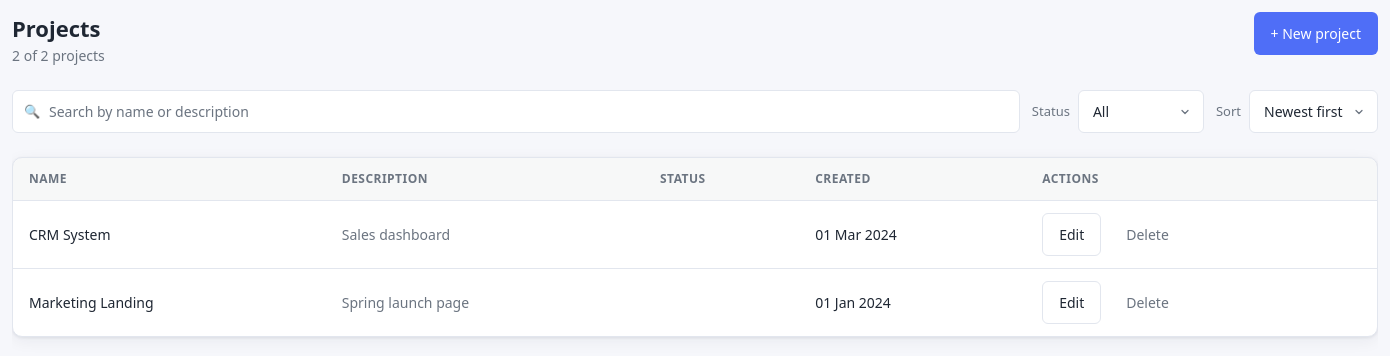
Test: ProjectsPage › filters by the debounced search query
Type "landing" into the search field named "Search projects" at (516, 112), box left=12, top=90, right=1020, bottom=133
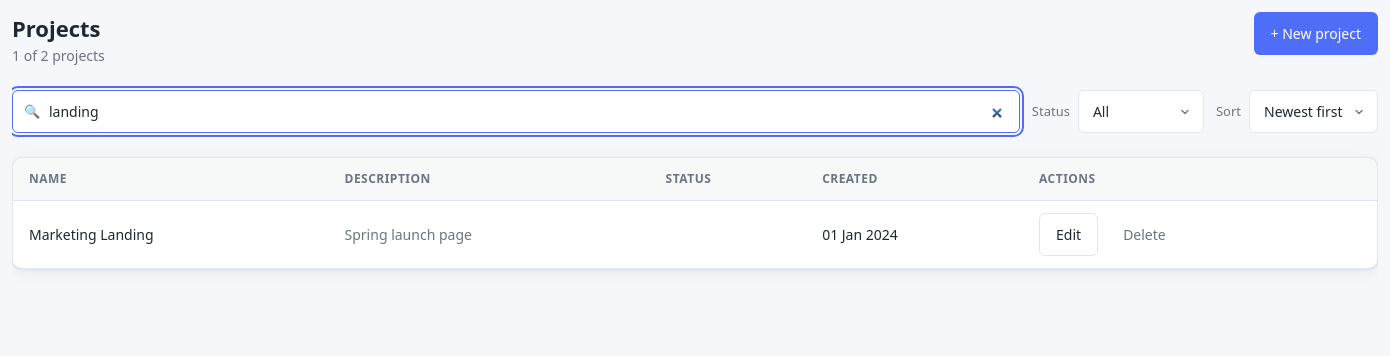
Check: the text "1 of 2 projects" is shown, box left=12, top=45, right=105, bottom=66
